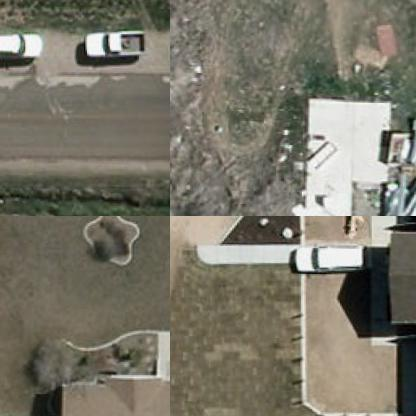car: (292, 242, 368, 274), (0, 26, 41, 60)
pickup: (86, 28, 148, 58)
